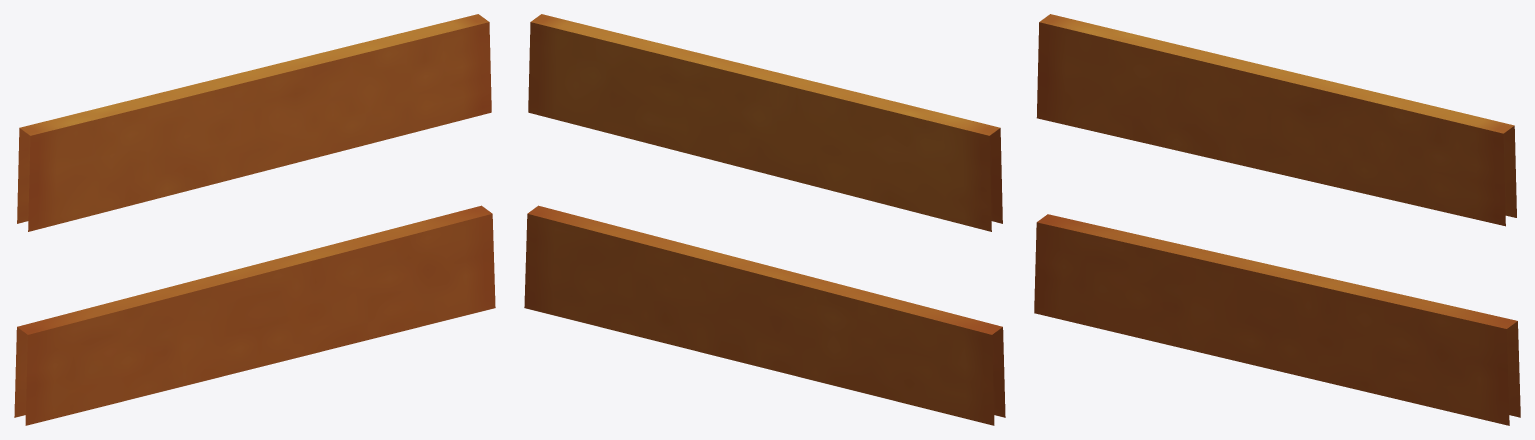
Rendered from green_1x1_inside_fence.FBX.
3 renders of one model, left to right at view 1: azimuth 30°, elevation 25°; view 2: azimuth 150°, elevation 25°; view 3: azimuth 330°, elevation 25°, orthographic.
Parts seen in each view (by area): view 1: green_1x1_inside_fence; view 2: green_1x1_inside_fence; view 3: green_1x1_inside_fence.
Part boxes in pixels (<box>): green_1x1_inside_fence: <box>14,14,495,425</box>; green_1x1_inside_fence: <box>524,14,1005,425</box>; green_1x1_inside_fence: <box>1034,14,1520,425</box>.
Size of the model in its own units: 1062 by 627 by 43.2.
